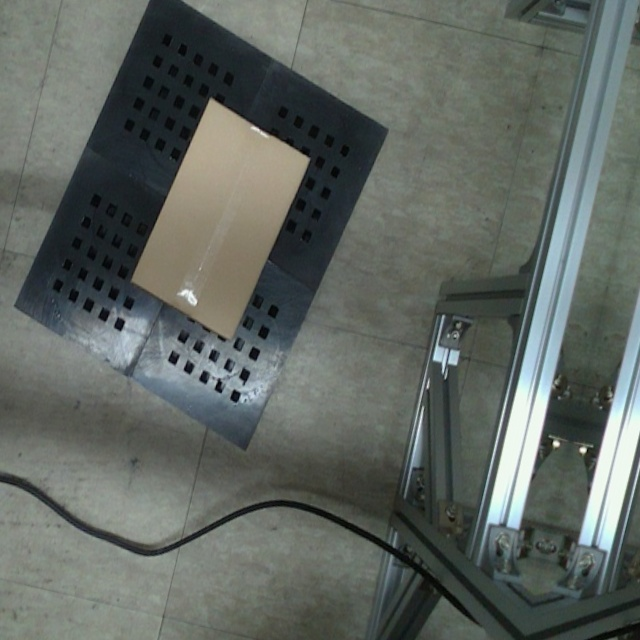box: (127, 95, 313, 340)
pallet: (0, 0, 415, 469)
